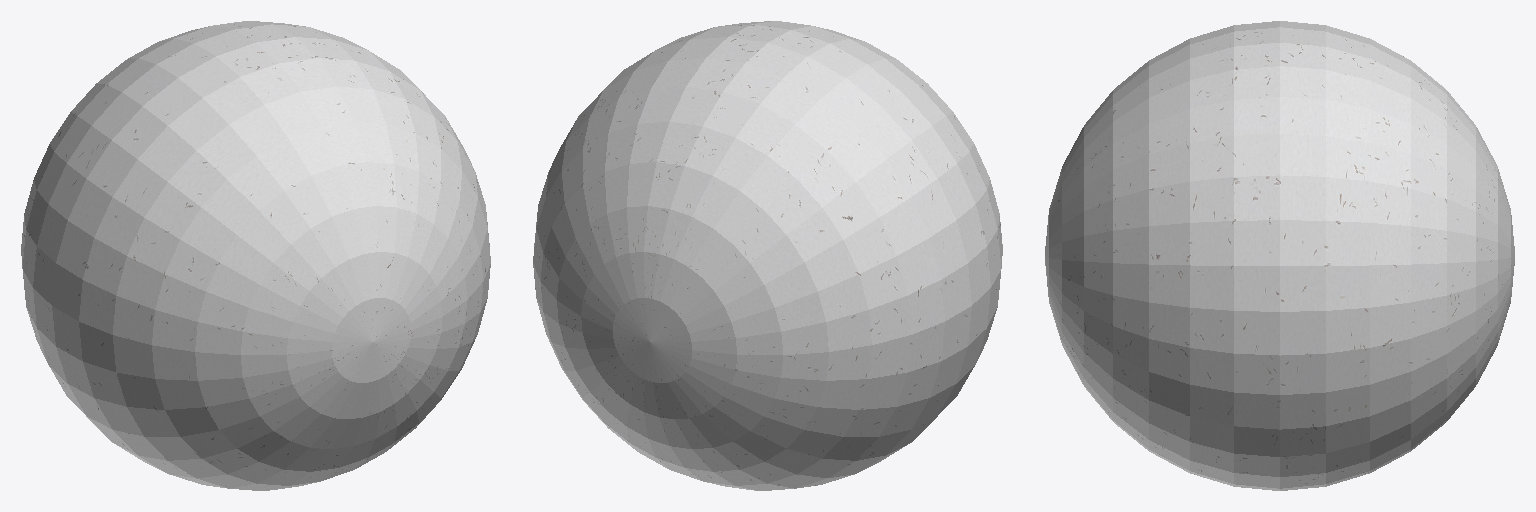
3 renders of one model, left to right at view 1: azimuth 30°, elevation 25°; view 2: azimuth 150°, elevation 25°; view 3: azimuth 270°, elevation 25°, orthographic.
Visible parts, largest first — view 1: Sphere; view 2: Sphere; view 3: Sphere.
Boxes of the visible parts, x1,y1,x2,y2 form: Sphere: [21, 21, 490, 490]; Sphere: [533, 21, 1002, 490]; Sphere: [1045, 21, 1514, 490].
Size of the model in its own units: 2 by 2 by 2.
1 materials, 1 textured.